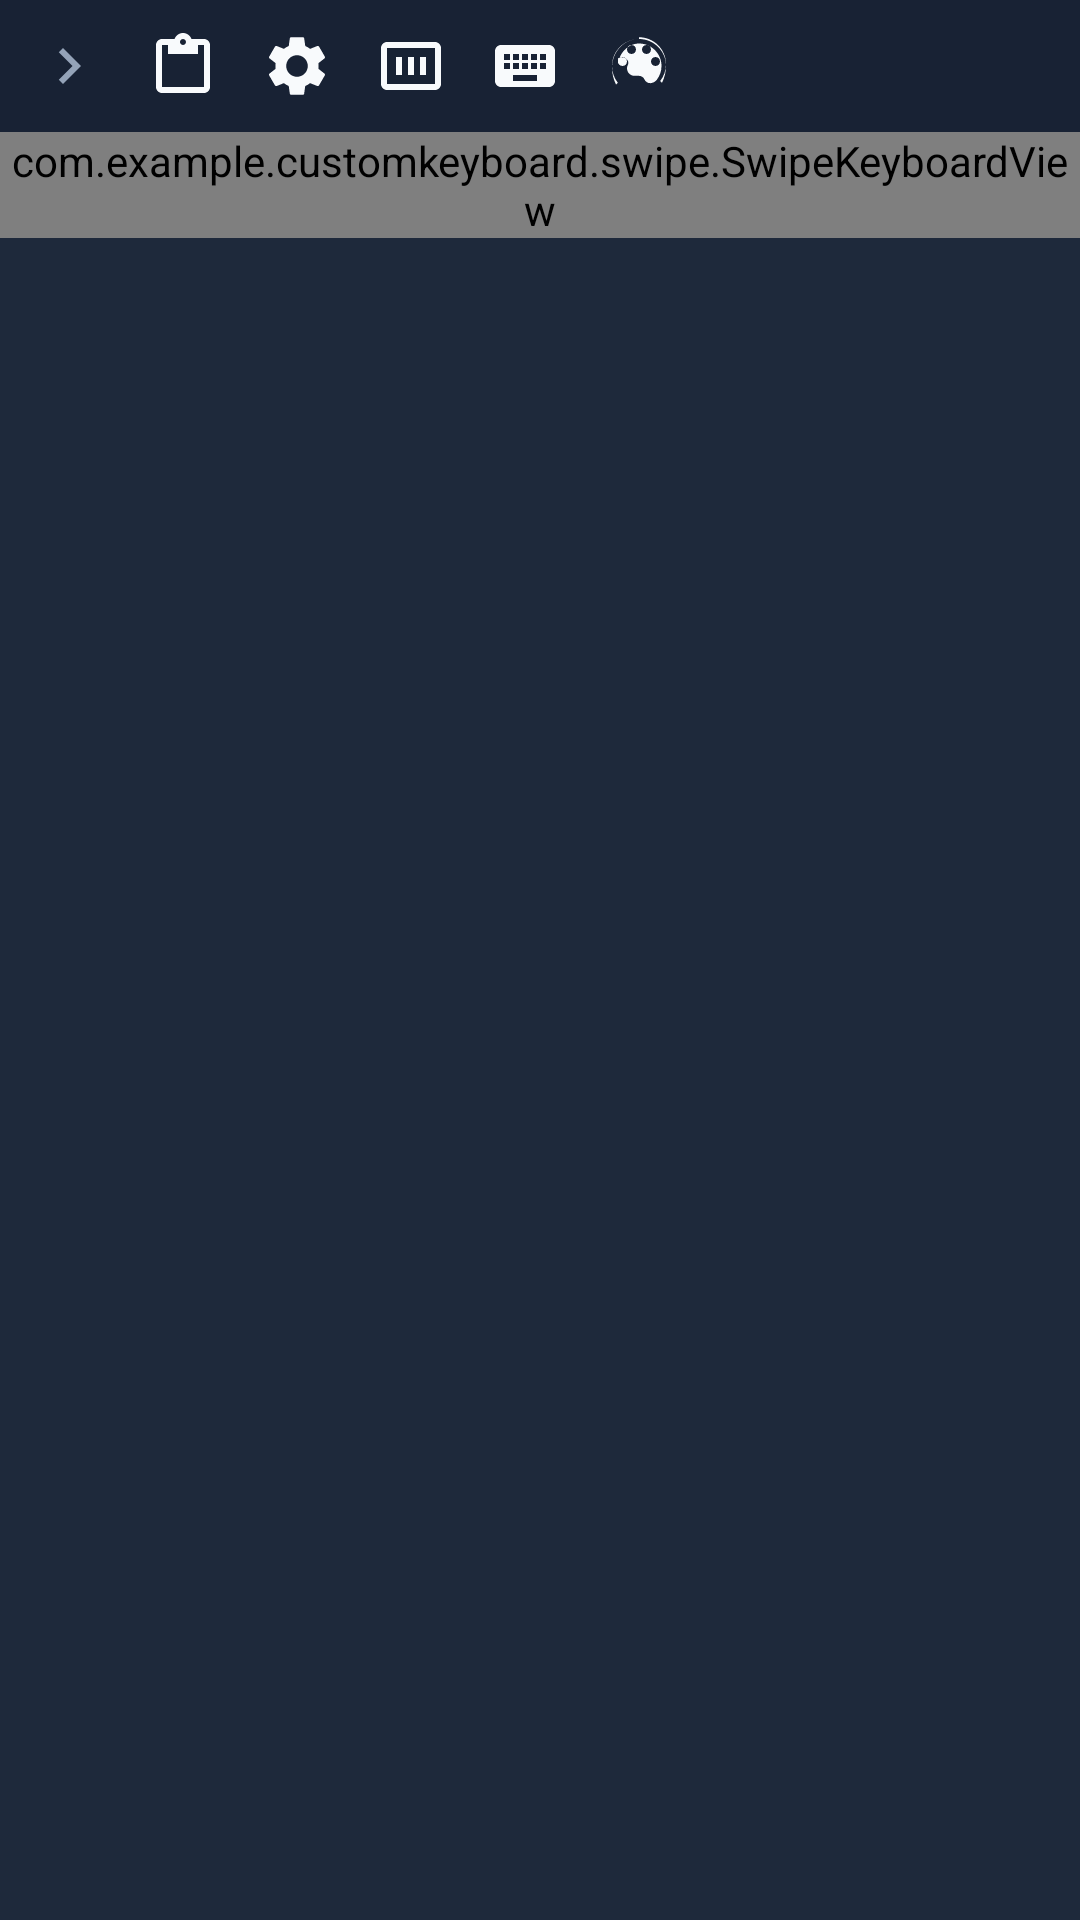

Screen size 1080x1920. Icon name, then its box in pixels as box(x1, y1, x2, y2):
Clipboard History: box(156, 33, 210, 93)
Settings: box(269, 37, 325, 95)
Switch Layout: box(495, 45, 555, 87)
Switch Theme: box(612, 37, 666, 85)
Toggle features: box(59, 48, 81, 84)
Toggle Number Row: box(381, 42, 441, 90)
